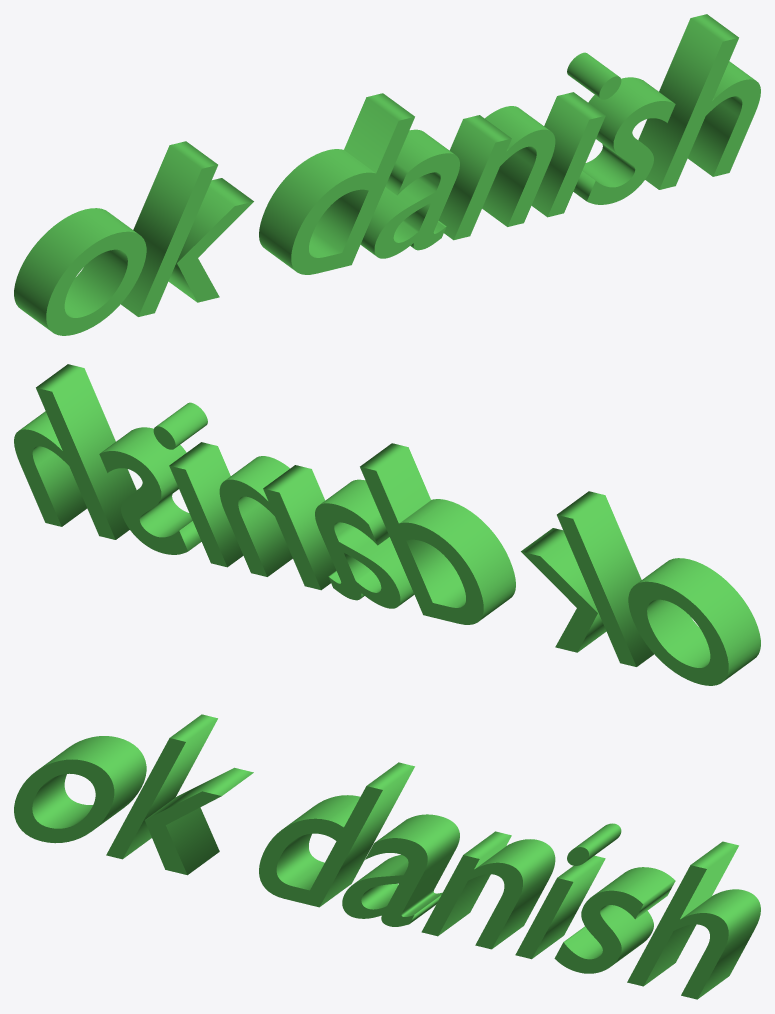
File: 32_6badfe02.glb
3 renders of one model, top to bottom at view 1: azimuth 30°, elevation 25°; view 2: azimuth 150°, elevation 25°; view 3: azimuth 330°, elevation 25°, orthographic.
Parts seen in each view (by area): view 1: Text; view 2: Text; view 3: Text.
Boxes of the visible parts, left/top/right/bottom form: Text: left=14, top=14, right=760, bottom=335; Text: left=14, top=364, right=760, bottom=685; Text: left=14, top=714, right=760, bottom=999.
Bounding box in the file's own units: 5.76 × 1.04 × 0.45.
